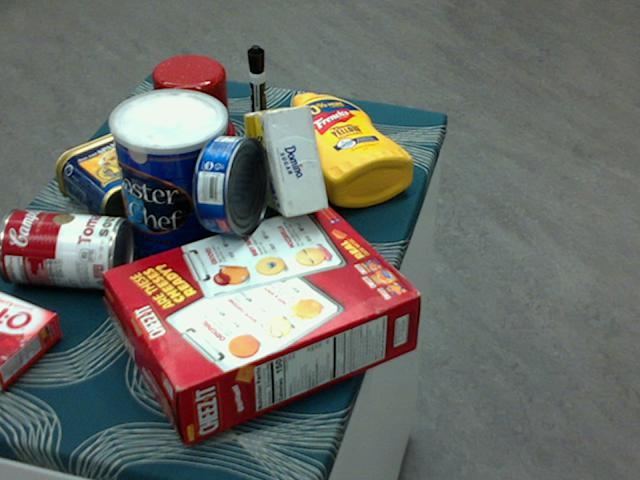cracker_box: (102, 200, 421, 444)
gelatin_box: (0, 290, 62, 391)
large_marker: (247, 44, 267, 149)
master_chef_can: (109, 90, 232, 276)
mug: (150, 55, 234, 155)
mustard_bottle: (284, 91, 413, 207)
potted_meat_can: (54, 127, 185, 228)
sugar_box: (241, 106, 327, 217)
tomato_soup_can: (0, 205, 132, 290)
tuna_fish_can: (192, 134, 269, 234)
